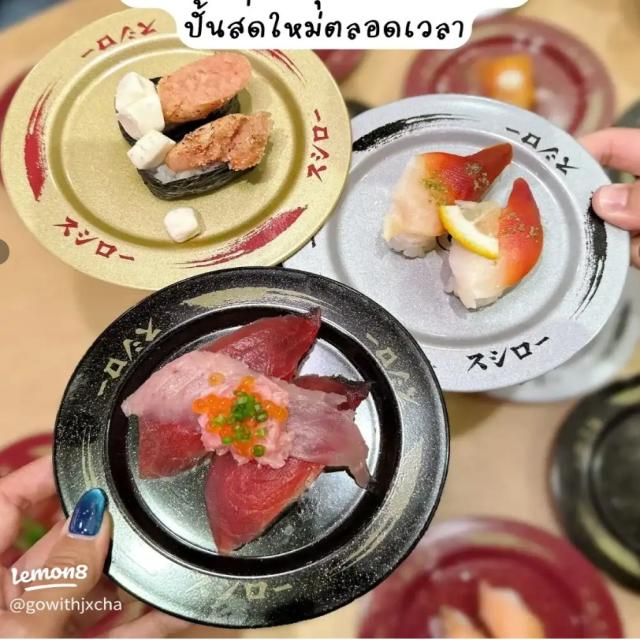janback: (36, 311, 427, 584), (522, 388, 640, 570)
jangold: (30, 14, 324, 250)
janred: (366, 526, 625, 640), (430, 41, 612, 145), (11, 437, 79, 626)
janwoven: (311, 127, 605, 364), (591, 294, 640, 383)
